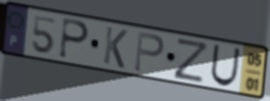5: (30, 13, 58, 55)
K: (101, 24, 129, 71)
P: (57, 17, 92, 62), (132, 29, 166, 74)
U: (209, 43, 242, 88)
Z: (172, 36, 211, 85)
